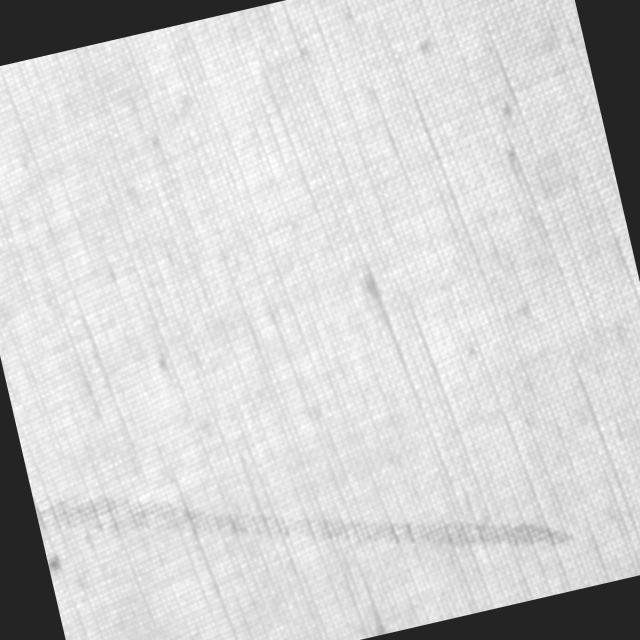oil spot: (32, 378, 578, 640)
